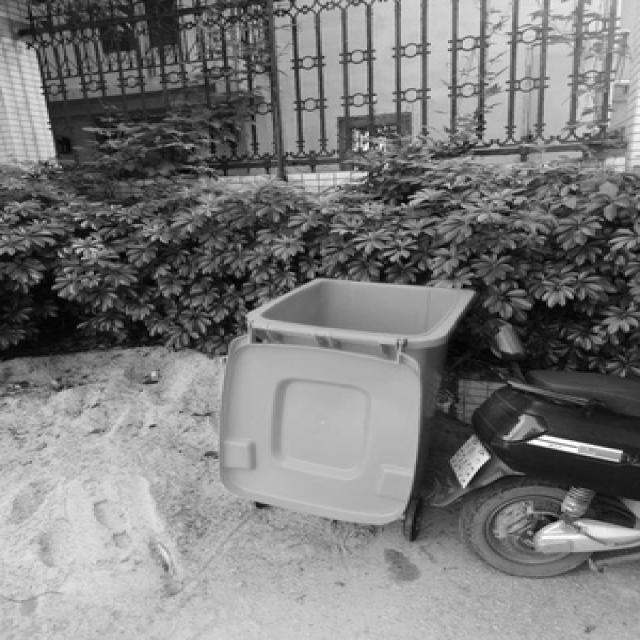ash bin: (217, 274, 473, 524)
motorbike: (416, 317, 638, 579)
